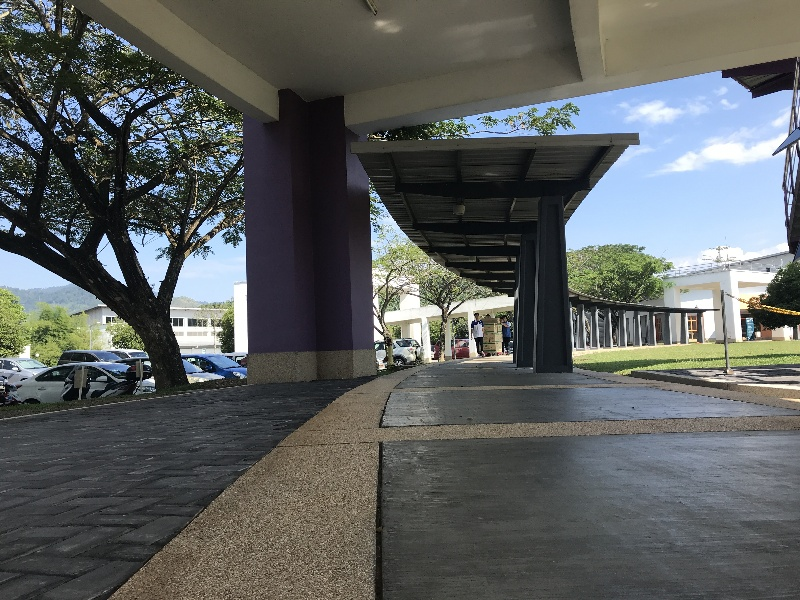Block D corridor: (7, 5, 795, 593)
pillar: (227, 87, 390, 388), (521, 201, 588, 378)
